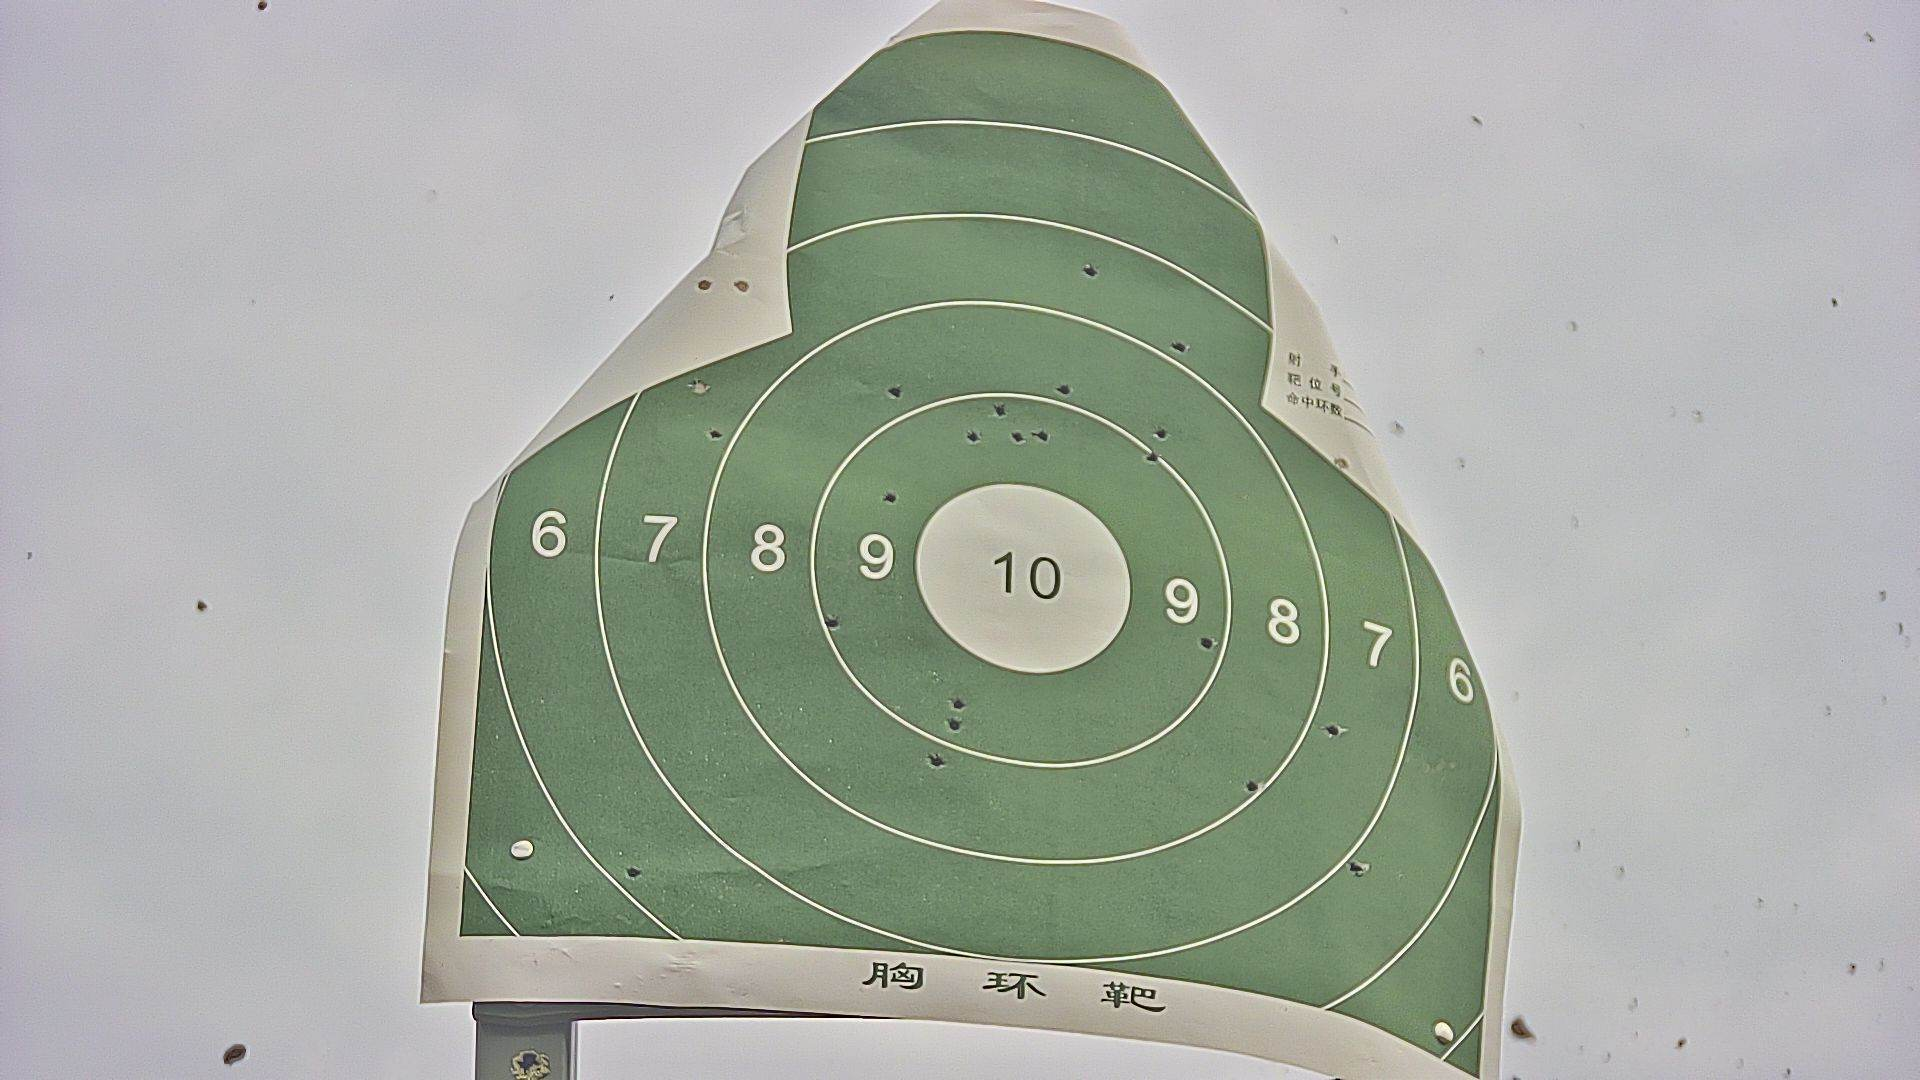hole: (622, 862, 644, 878), (1170, 338, 1187, 356), (1083, 261, 1098, 280), (1199, 633, 1215, 651), (825, 615, 843, 630), (692, 378, 707, 397), (1349, 860, 1365, 876), (887, 385, 902, 401), (945, 717, 963, 731), (708, 429, 727, 440), (993, 401, 1007, 415), (735, 278, 749, 293), (1009, 431, 1025, 444), (1056, 385, 1073, 397), (1035, 429, 1048, 443), (1325, 724, 1338, 738), (1246, 779, 1261, 793), (884, 488, 895, 504), (1335, 454, 1346, 469), (967, 429, 980, 442), (1145, 448, 1158, 462), (928, 754, 943, 766), (1155, 426, 1167, 440), (698, 278, 709, 291), (952, 696, 964, 708)
kernel: (1019, 574, 1025, 578)
target: (463, 30, 1502, 1080)
ten: (915, 484, 1133, 673)
